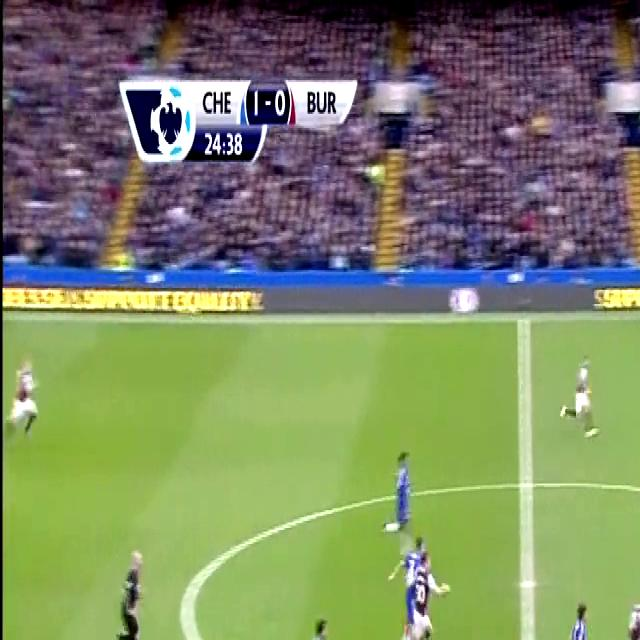referee: (108, 537, 145, 640)
soccer-player: (388, 522, 452, 640), (378, 435, 415, 558), (557, 341, 598, 444), (7, 346, 47, 446), (547, 583, 601, 640), (613, 570, 640, 640), (287, 604, 337, 640)
